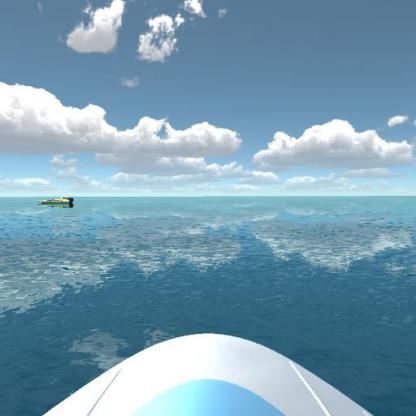usv2: (32, 189, 76, 212)
